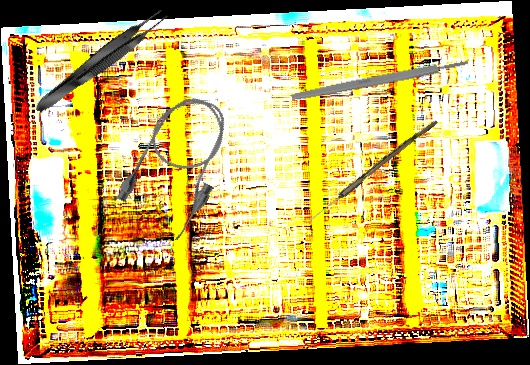Cannula: (110, 83, 248, 245)
Scalpel Handle: (290, 57, 470, 103)
Surgical Spoon: (303, 116, 439, 228)
Tissue Forceps: (29, 3, 172, 119)
